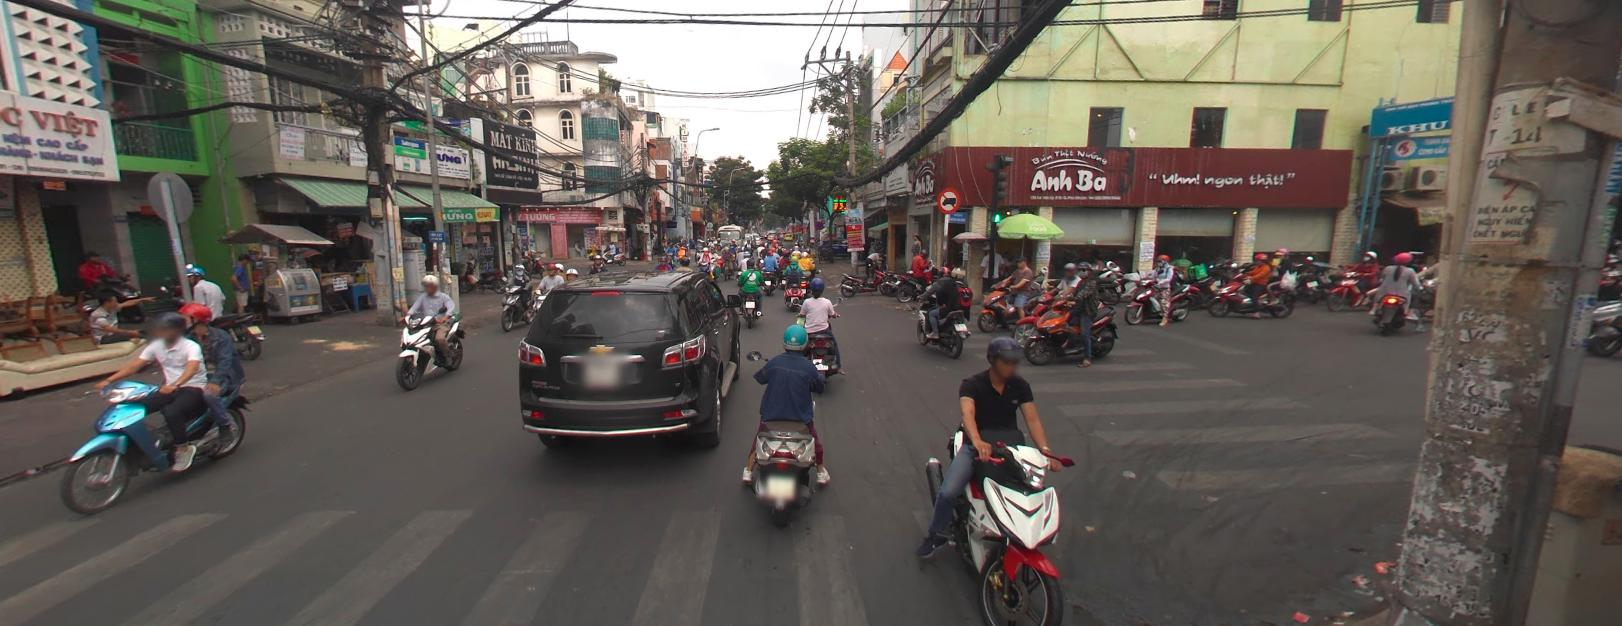Cam con lai: (936, 186, 960, 210)
Cam dung va do: (814, 218, 823, 228)
